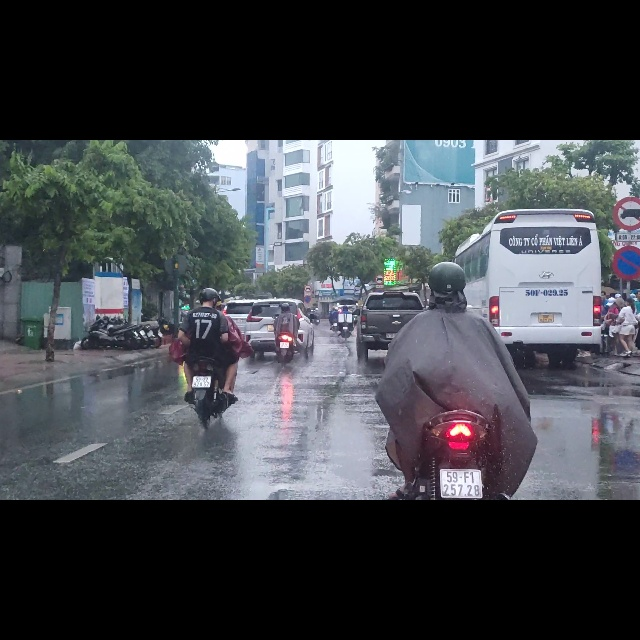bien_cam: (614, 185, 640, 251), (614, 99, 640, 162), (374, 239, 384, 256), (305, 257, 312, 271), (304, 276, 311, 290)
